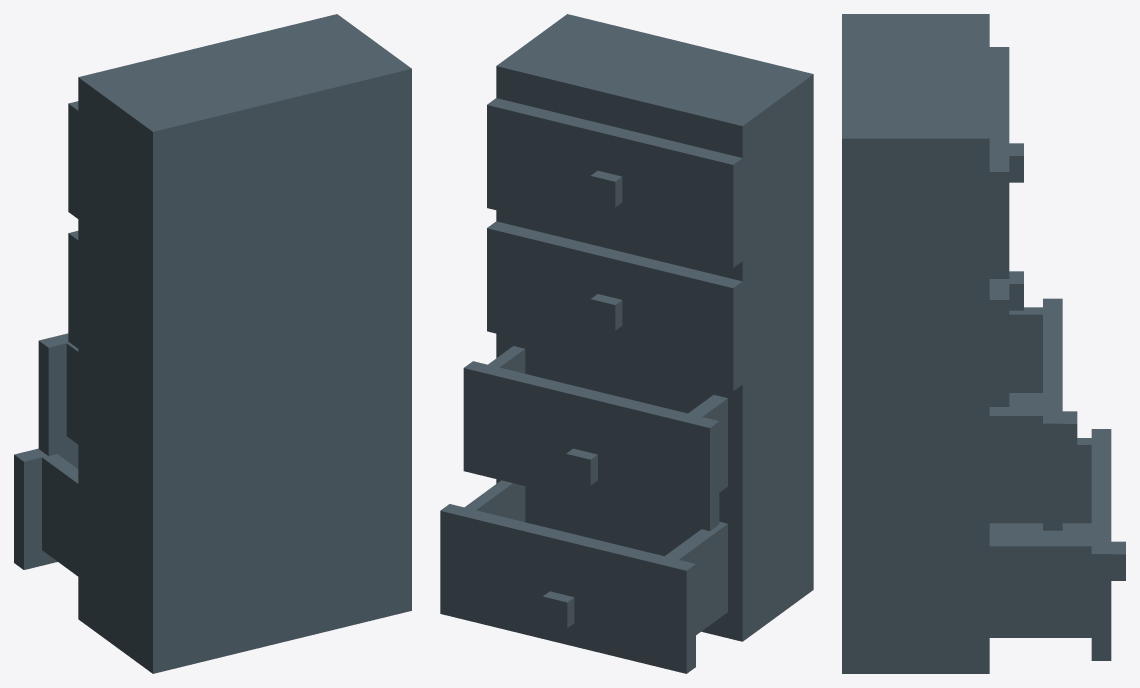
The model's file is archival cases_1.fbx.
3 renders of one model, left to right at view 1: azimuth 30°, elevation 25°; view 2: azimuth 150°, elevation 25°; view 3: azimuth 270°, elevation 25°, orthographic. The views are drawn at different scales.
Parts seen in each view (by area): view 1: archival cases_1.001; view 2: archival cases_1.001; view 3: archival cases_1.001.
Boxes of the visible parts, x1,y1,x2,y2 form: archival cases_1.001: (14,14,411,673); archival cases_1.001: (440,14,813,673); archival cases_1.001: (842,14,1125,673).
Bounding box in the file's own units: 101 × 200 × 96.16.
